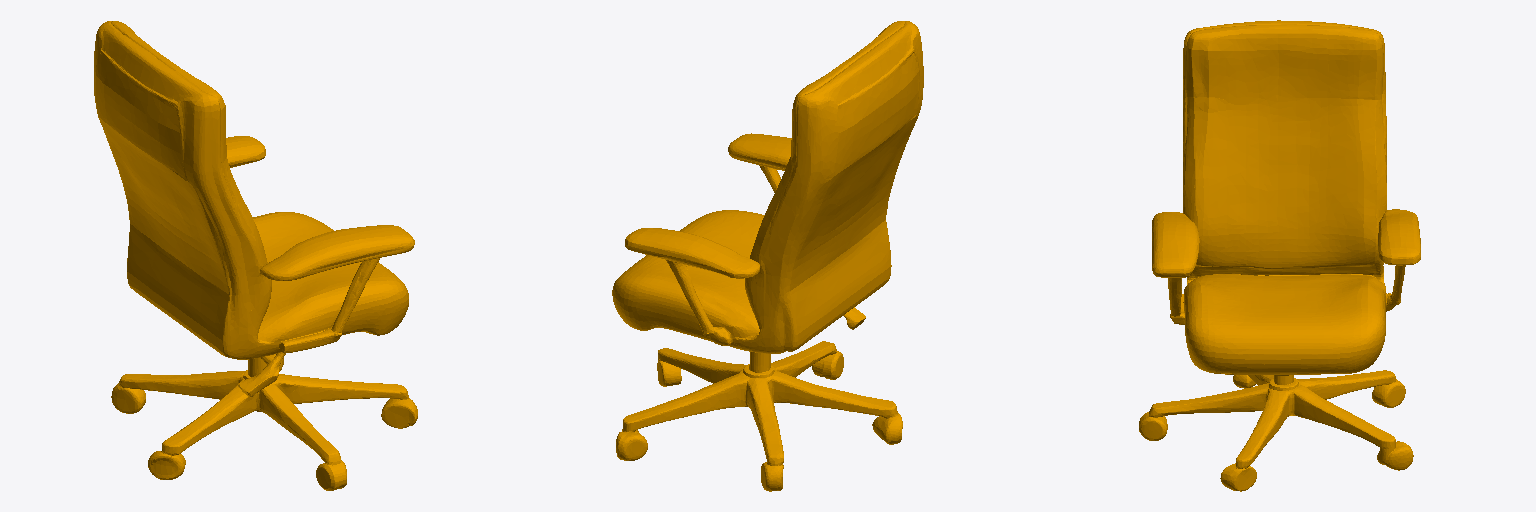
robot.urdf — computer_chair_49:
<?xml version="1.0" ?>
<robot name="computer_chair_49">
   <link name="computer_chair_49">
      <visual>
         <origin xyz="0 0 0" rpy="1.5708 0.0 0.0"/>
         <geometry>
            <mesh filename="mesh/computer_chair_49.obj" scale="1.0 1.0 1.0"/>
         </geometry>
      </visual>
      <collision>
         <origin xyz="0 0 0" rpy="1.5708 0.0 0.0"/>
         <geometry>
            <mesh filename="mesh/computer_chair_49_collision.obj" scale="1.0 1.0 1.0"/>
         </geometry>
         <gazebo>
            <mu1>0.80</mu1>
            <mu2>0.60</mu2>
         </gazebo>
      </collision>
      <inertial>
         <mass value="12.5000"/>
         <origin xyz="0 0 0"/>
         <inertia ixx="1.0" ixy="0.0" ixz="0.0" iyy="1.0" iyz="0.0" izz="1.0"/>
      </inertial>
      <extra_info>
         <scale>1.100000</scale>
         <version>v0.1.5</version>
         <category>computer_chair</category>
         <description>ergonomic blue computer chair with armrests and a five-wheel base</description>
         <min_height>1.0</min_height>
         <max_height>1.2</max_height>
         <real_height>1.1</real_height>
         <min_mass>10.0</min_mass>
         <max_mass>15.0</max_mass>
         <generate_time>20251021132127</generate_time>
         <gs_model>mesh/computer_chair_49_gs.ply</gs_model>
      </extra_info>
   </link>
   <custom_data>
      <quality>
         <MeshGeoChecker>YES</MeshGeoChecker>
         <ImageSegChecker>YES</ImageSegChecker>
         <ImageAestheticChecker>4.973665237426758</ImageAestheticChecker>
         <overall>YES</overall>
      </quality>
   </custom_data>
</robot>

--- Facts derived from the render (not from the file) ---
The picture shows the robot from 3 angles, left to right: view 1: azimuth 30°, elevation 25°; view 2: azimuth 150°, elevation 25°; view 3: azimuth 270°, elevation 25°; orthographic projection.
Model computer_chair_49 with 1 links and 0 joints (none), rooted at computer_chair_49, posed all joints at 0.
Links seen in each view (by area): view 1: computer_chair_49; view 2: computer_chair_49; view 3: computer_chair_49.
Boxes of the visible links, left/top/right/bottom form: computer_chair_49: left=94, top=21, right=417, bottom=490; computer_chair_49: left=612, top=21, right=923, bottom=491; computer_chair_49: left=1139, top=20, right=1420, bottom=491.
Size in the robot's own frame: 0.7339 by 0.7692 by 1.1 metres.
1 mesh visuals loaded from 1 distinct referenced files (1 OBJ).
